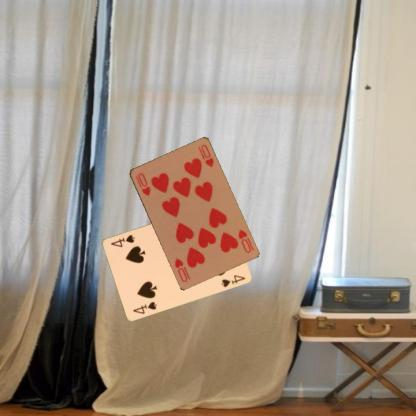10h: (132, 170, 152, 197), (235, 227, 255, 254)
4s: (130, 299, 159, 315)
